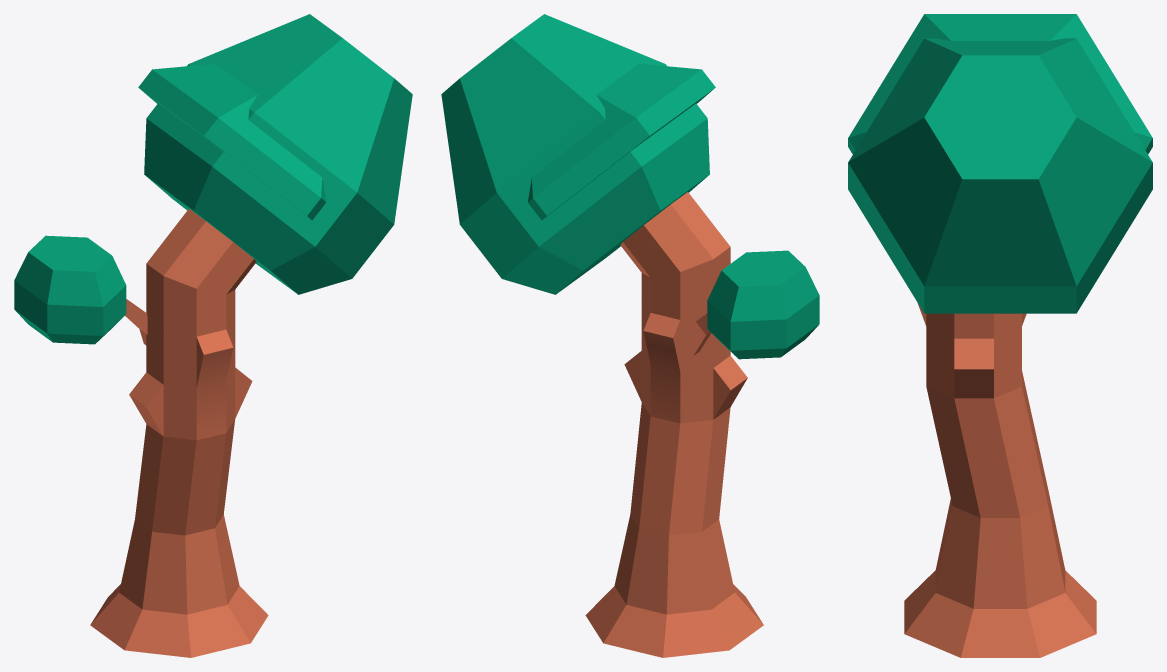
Rendered from TreeFour.fbx.
3 views of the same model, side by side, from view 1: azimuth 30°, elevation 25°; view 2: azimuth 150°, elevation 25°; view 3: azimuth 270°, elevation 25° (orthographic). The views are drawn at different scales.
Parts seen in each view (by area): view 1: mergedBlocks; view 2: mergedBlocks; view 3: mergedBlocks.
Boxes of the visible parts, box(x1,y1,x2,y2) form: mergedBlocks: box(14, 14, 412, 657); mergedBlocks: box(441, 14, 819, 657); mergedBlocks: box(848, 14, 1152, 657).
Size of the model in its own units: 17.96 by 26.96 by 11.55.
